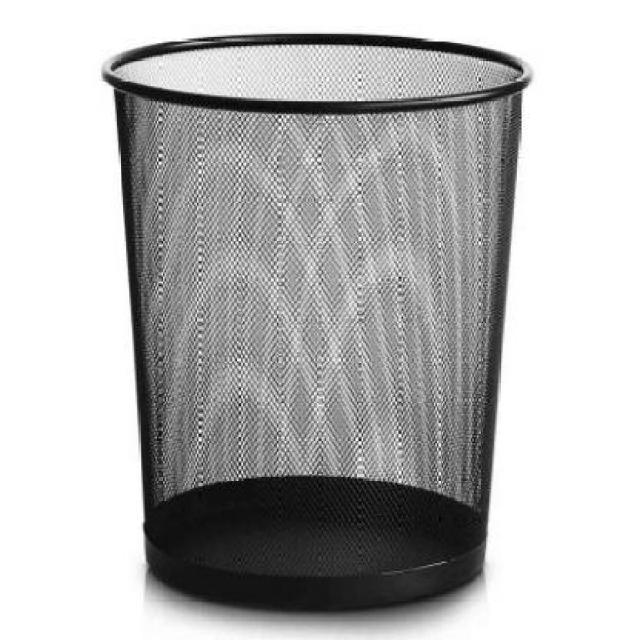dustbin: (97, 28, 537, 620)
